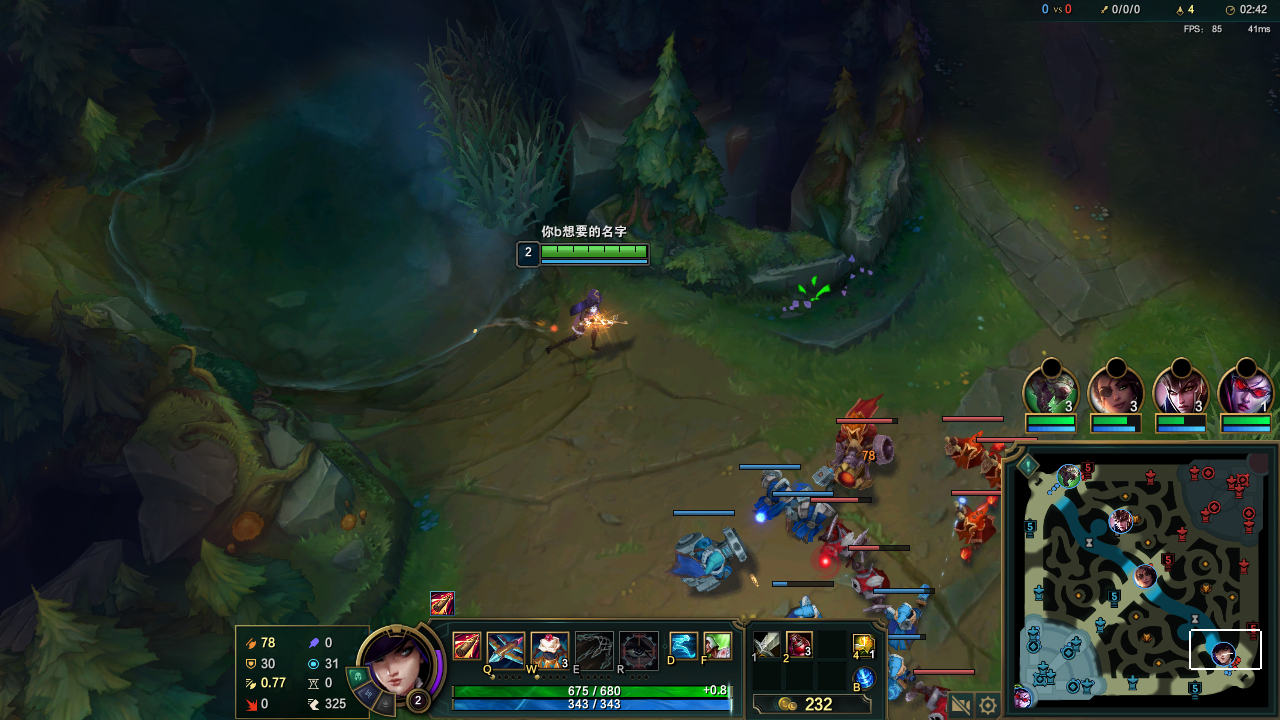DFXB: (823, 395, 899, 493), (949, 429, 985, 474), (952, 501, 989, 542), (832, 531, 868, 565), (852, 569, 887, 601)
WFXB: (670, 526, 748, 600), (886, 581, 934, 648), (752, 468, 794, 523), (791, 496, 836, 537), (888, 651, 914, 699), (780, 594, 825, 621)
Yita: (1186, 675, 1203, 697)
